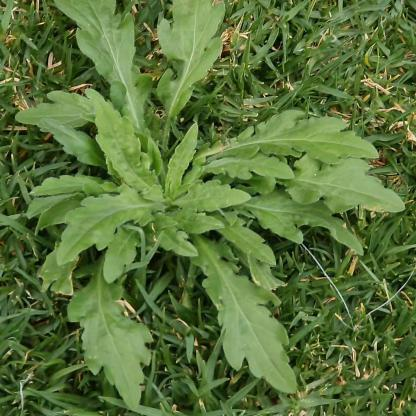Weeds: (17, 0, 406, 406)
